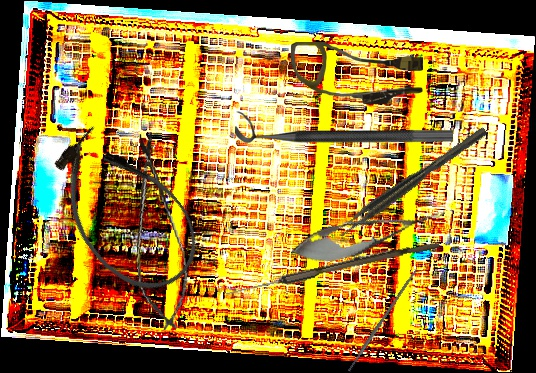Cannula: (30, 111, 218, 312), (291, 42, 423, 104)
Fixation Ring: (235, 111, 453, 143)
Micro Scissor: (118, 130, 196, 333), (286, 195, 445, 274)
Scalpel Handle: (345, 268, 419, 373)
Surgical Spoon: (224, 236, 441, 301)
Tissue Forceps: (334, 126, 491, 239)
